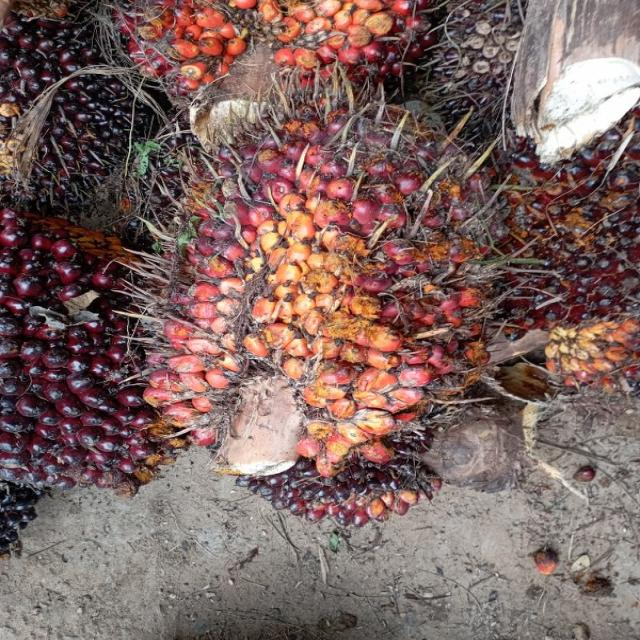fraksi 3: (64, 57, 544, 526)
